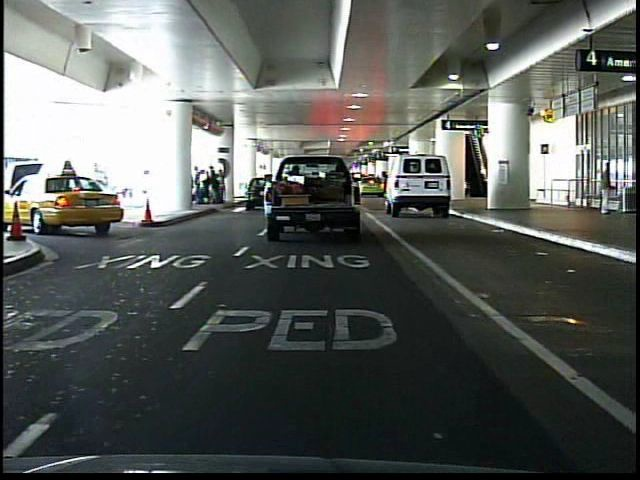person: (593, 159, 618, 218)
